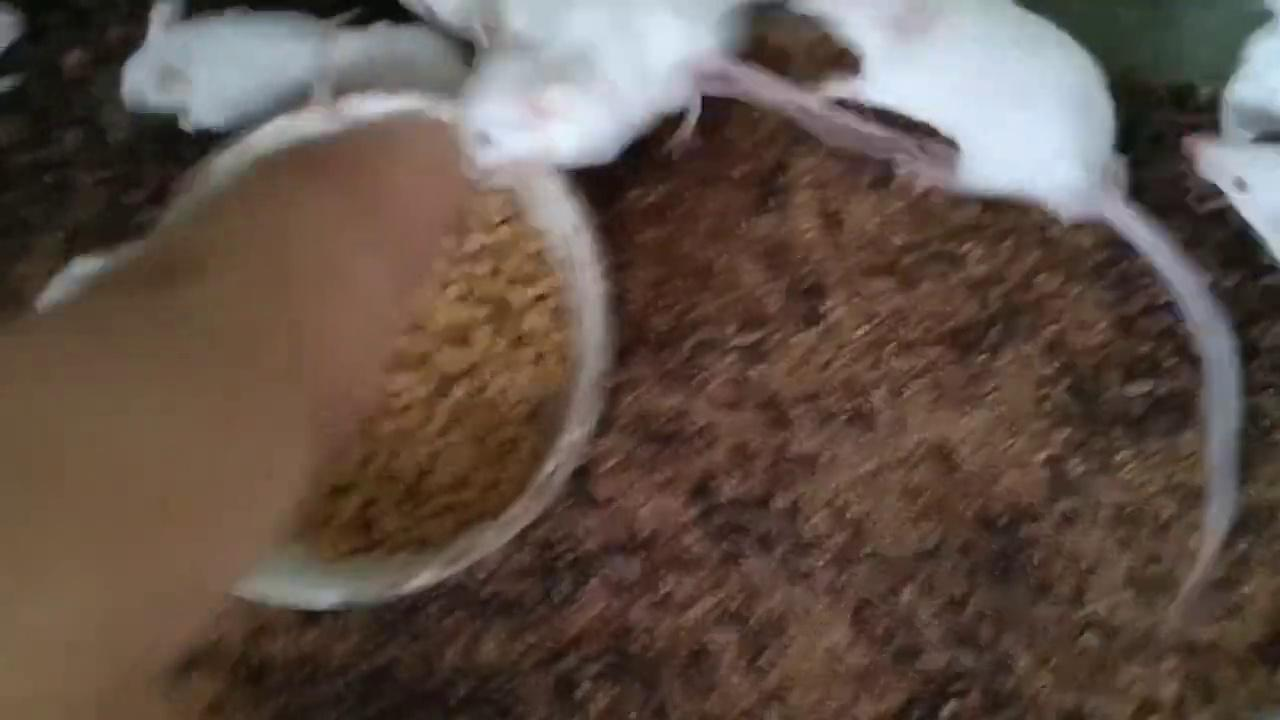rat: (785, 0, 1241, 619)
